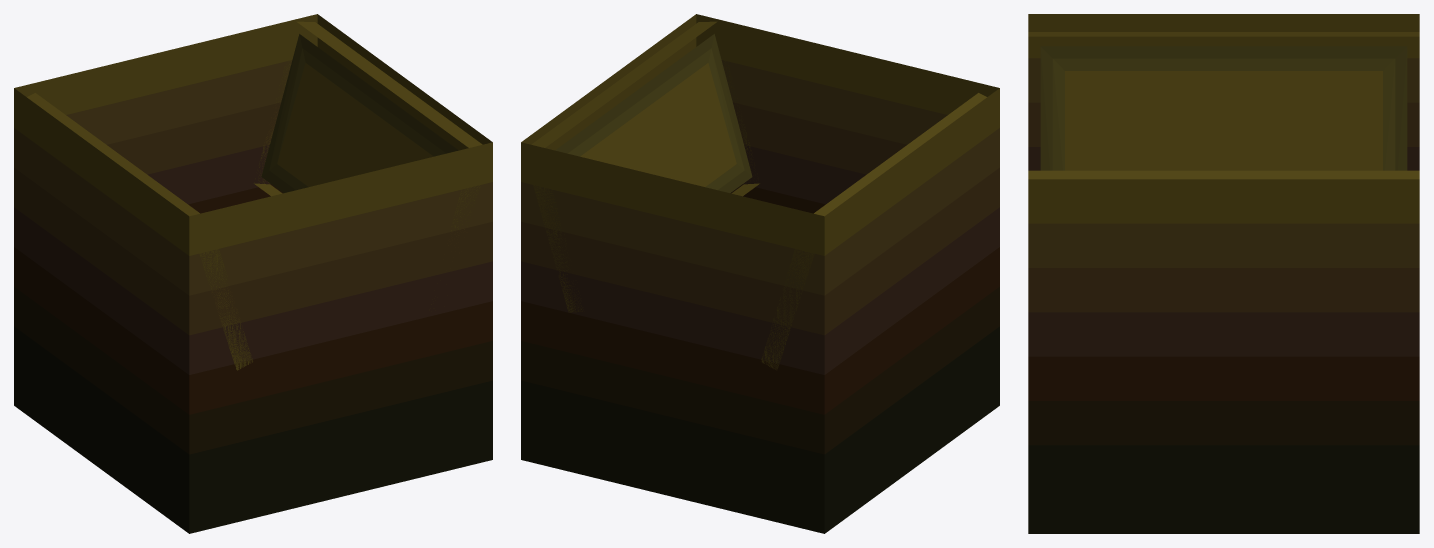
File: obj_hiddentrapdoor_open_0.obj
3 views of the same model, side by side, from view 1: azimuth 30°, elevation 25°; view 2: azimuth 150°, elevation 25°; view 3: azimuth 270°, elevation 25° (orthographic). The views are drawn at different scales.
Size of the model in its own units: 1 by 1 by 1.
